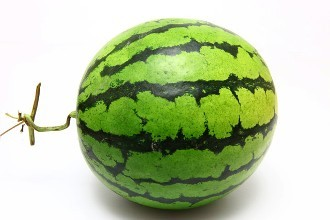watermelon: (79, 16, 277, 209)
